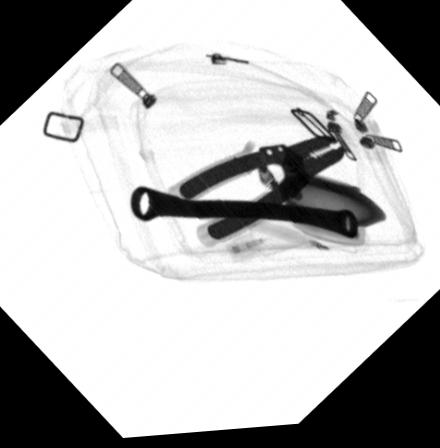Pliers: (175, 138, 344, 245)
Wrench: (127, 187, 361, 247)
